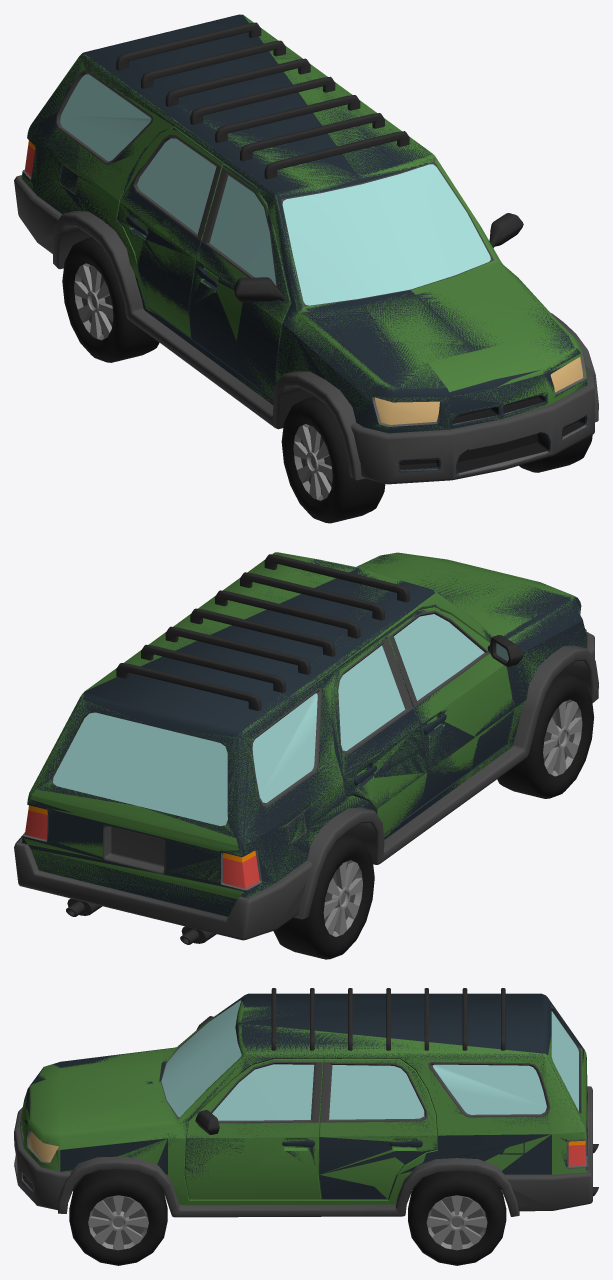
Rendered from SM_Vehicles_15_V1.fbx.
The picture shows the model from 3 angles, top to bottom: view 1: azimuth 30°, elevation 25°; view 2: azimuth 150°, elevation 25°; view 3: azimuth 270°, elevation 25°; orthographic projection. The views are drawn at different scales.
Visible parts, largest first — view 1: SM_Vehicles_15_V1, SM_Vehicles_15_V2, SM_Vehicles_15_FR, SM_Vehicles_15_RR, SM_Vehicles_15_FL; view 2: SM_Vehicles_15_V1, SM_Vehicles_15_V2, SM_Vehicles_15_RR, SM_Vehicles_15_FR; view 3: SM_Vehicles_15_V2, SM_Vehicles_15_V1, SM_Vehicles_15_FL, SM_Vehicles_15_RL.
Boxes of the visible parts, bbox=[...] form: SM_Vehicles_15_V1: bbox=[14, 14, 598, 484]; SM_Vehicles_15_V2: bbox=[14, 15, 594, 484]; SM_Vehicles_15_FR: bbox=[281, 396, 385, 523]; SM_Vehicles_15_RR: bbox=[62, 237, 159, 362]; SM_Vehicles_15_FL: bbox=[519, 435, 592, 472]; SM_Vehicles_15_V1: bbox=[15, 555, 598, 944]; SM_Vehicles_15_V2: bbox=[14, 552, 598, 944]; SM_Vehicles_15_RR: bbox=[273, 833, 374, 959]; SM_Vehicles_15_FR: bbox=[497, 672, 594, 798]; SM_Vehicles_15_V2: bbox=[14, 990, 598, 1217]; SM_Vehicles_15_V1: bbox=[17, 988, 598, 1216]; SM_Vehicles_15_FL: bbox=[69, 1170, 167, 1265]; SM_Vehicles_15_RL: bbox=[408, 1171, 506, 1265].
Size of the model in its own units: 2.1 by 1.88 by 4.8.
